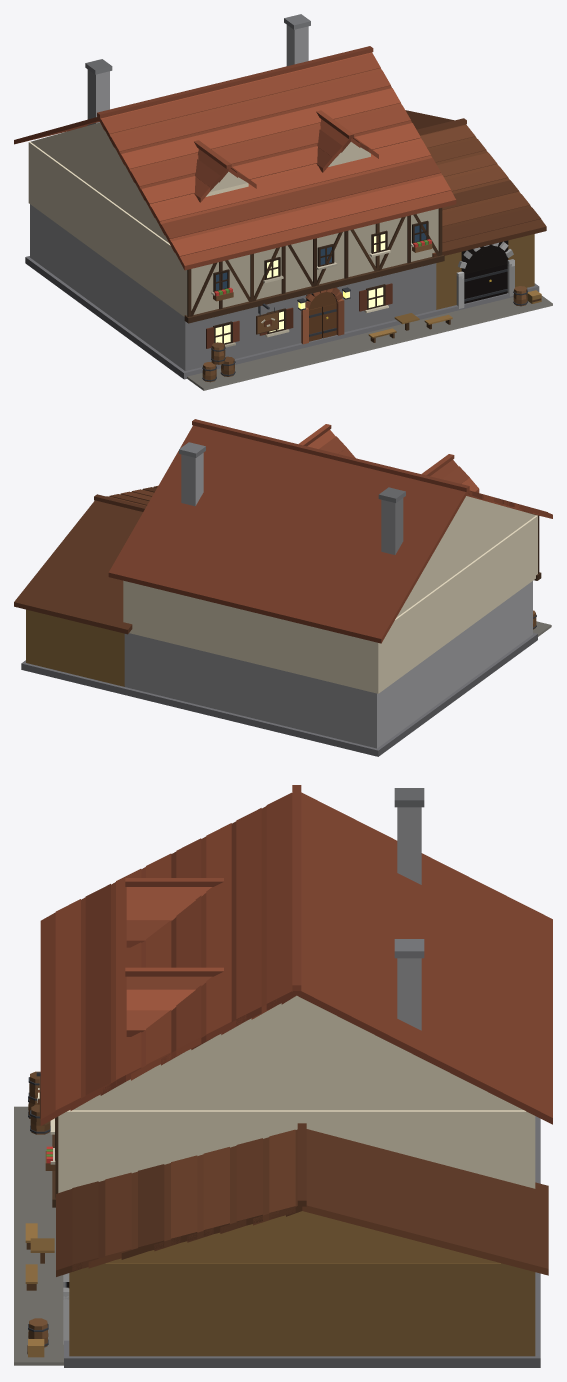
Rendered from resting_ox.glb.
The picture shows the model from 3 angles, top to bottom: view 1: azimuth 30°, elevation 25°; view 2: azimuth 150°, elevation 25°; view 3: azimuth 270°, elevation 25°; orthographic projection. The views are drawn at different scales.
Visible parts, largest first — view 1: resting_ox_body, resting_ox_ground; view 2: resting_ox_body; view 3: resting_ox_body, resting_ox_ground.
Boxes of the visible parts, bbox=[...] form: resting_ox_body: bbox=[14, 14, 546, 382]; resting_ox_ground: bbox=[187, 295, 552, 390]; resting_ox_body: bbox=[14, 419, 552, 756]; resting_ox_body: bbox=[25, 785, 552, 1367]; resting_ox_ground: bbox=[14, 1106, 63, 1365].
Size of the model in its own units: 21.51 by 12.46 by 18.14.
